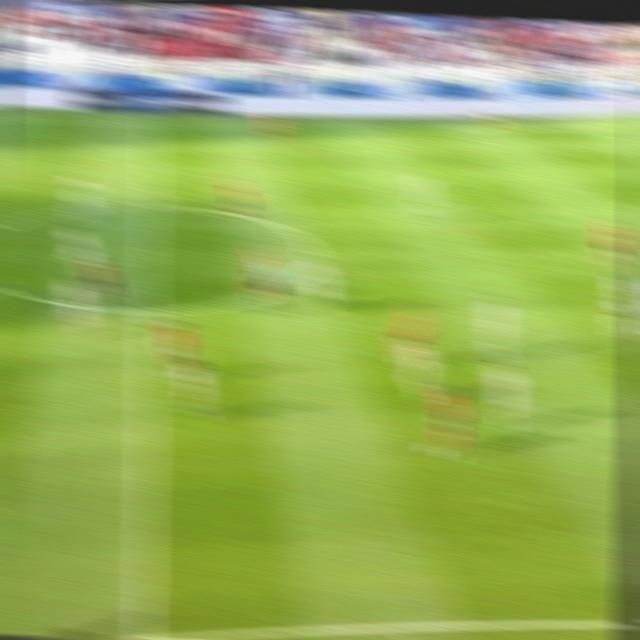bigarea_top_inner: (629, 152, 640, 172)
halfcircle_bottom: (131, 291, 167, 328)
halfcircle_top: (133, 190, 167, 219)
midline_bottom_intersection: (118, 615, 165, 640)
midline_top_intersection: (140, 112, 165, 134)
